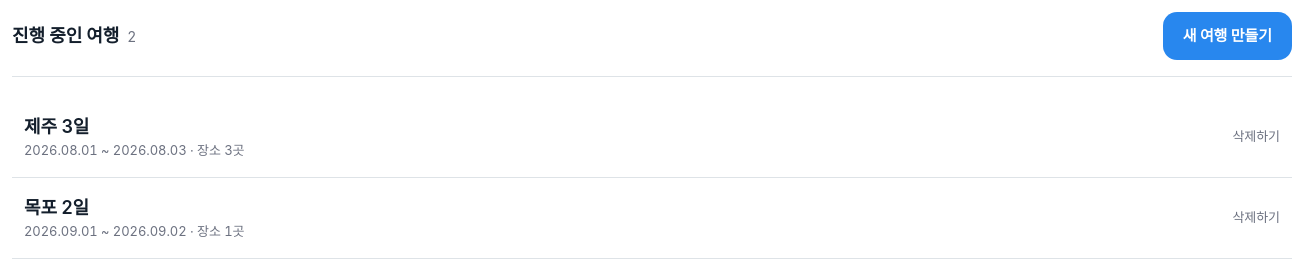
Test: TripsPanel — 여행 지우기 (FR-017 soft delete) › 지우면 목록에서 사라지고 되돌릴 수 있는 알림 줄이 남는다
Click the button with aria-label "제주 3일 삭제하기" at (1256, 137), box 1220,117 -> 1292,157
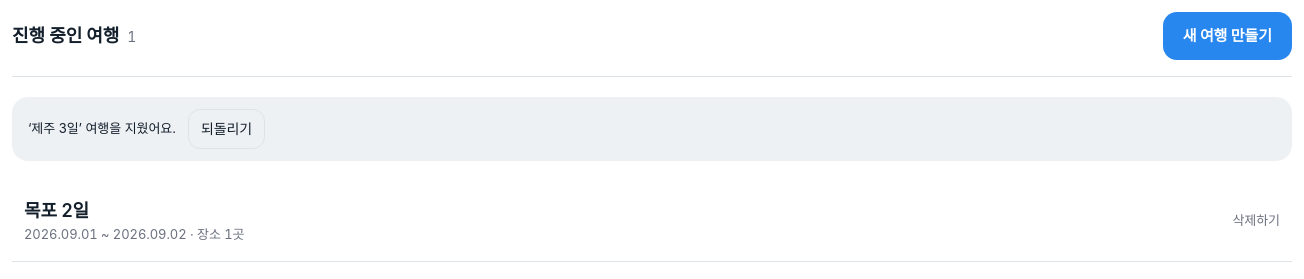
Expected: the message shows "제주 3일", 31,120 -> 78,136
Expected: the message shows "지웠어요", 78,120 -> 176,136
Expected: the button "되돌리기" is shown, 188,109 -> 265,149
